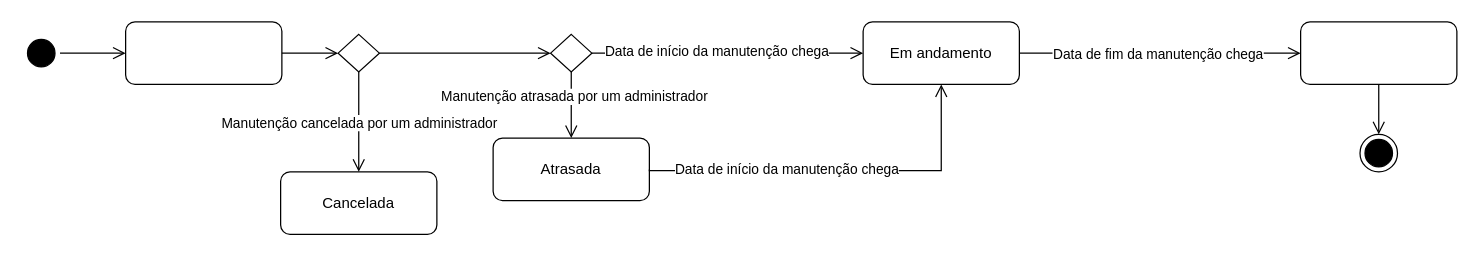
This 1479x256 diagram has some shape labels left out. The box of each missing label's shape, as (x1, y1, x2, y2) in pixels:
Agendada: (124, 21, 282, 84)
Finalizada: (1299, 21, 1457, 84)
